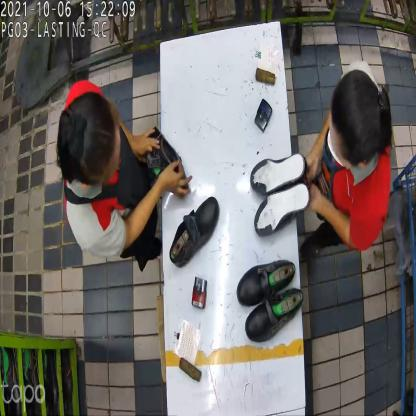shoes: (142, 125, 220, 268), (234, 256, 305, 342), (247, 152, 312, 240)
stamp: (254, 98, 274, 133), (190, 277, 210, 311)
